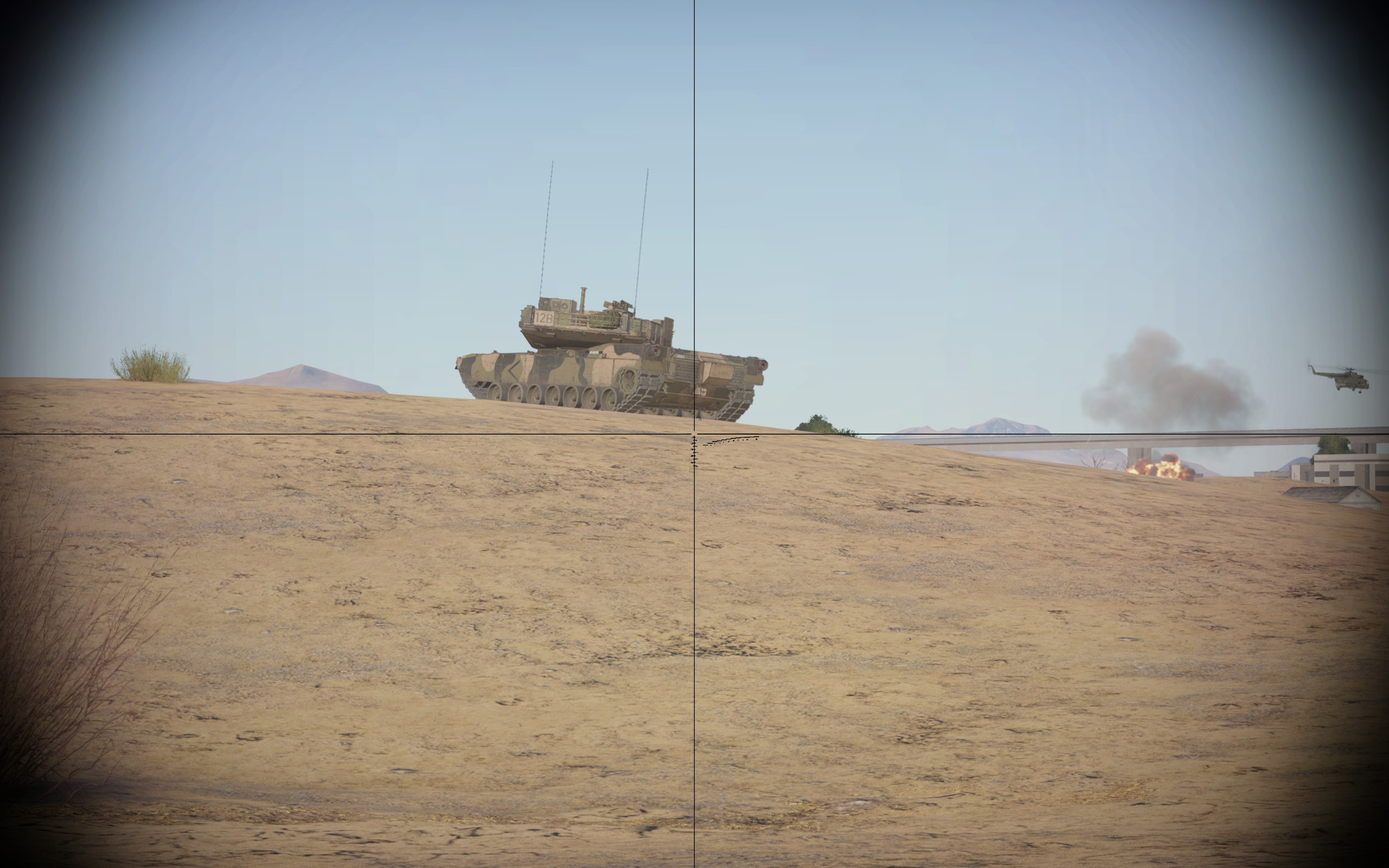abrams: (454, 287, 768, 423)
